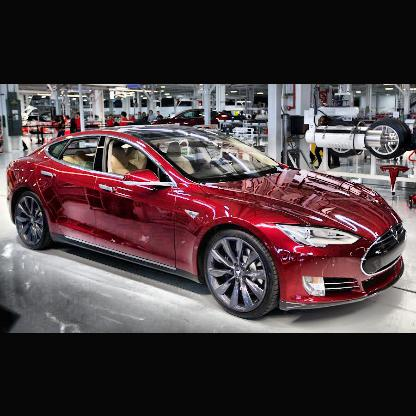Tesla Model S Sedan 2012: (7, 127, 407, 320)
